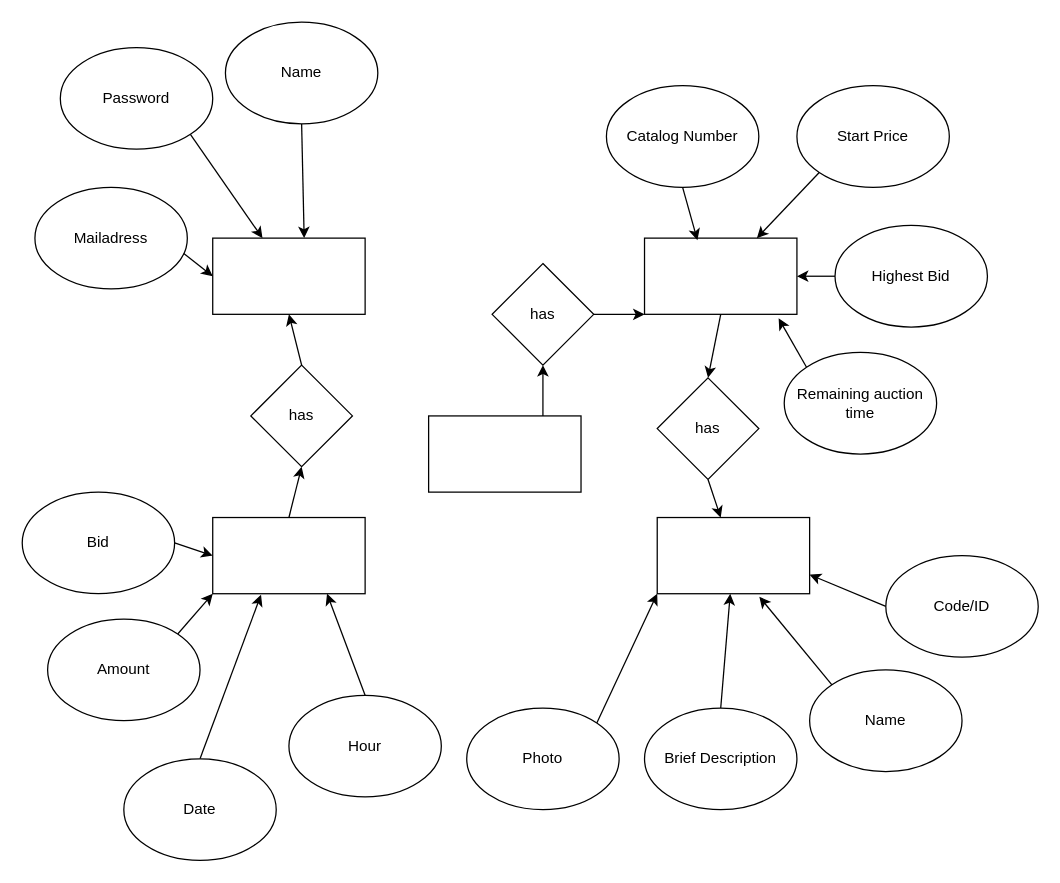
Image size: 1060x883. Some labels were removed from this diagram. The centre of each missing label's shape, as x and y in pixels:
"Auction House (Transactions)" goes at pixel 504 453.
"Customer" goes at pixel 288 555.
"Product" goes at pixel 733 555.
"Set" goes at pixel 720 275.
"User Name" goes at pixel 288 275.
